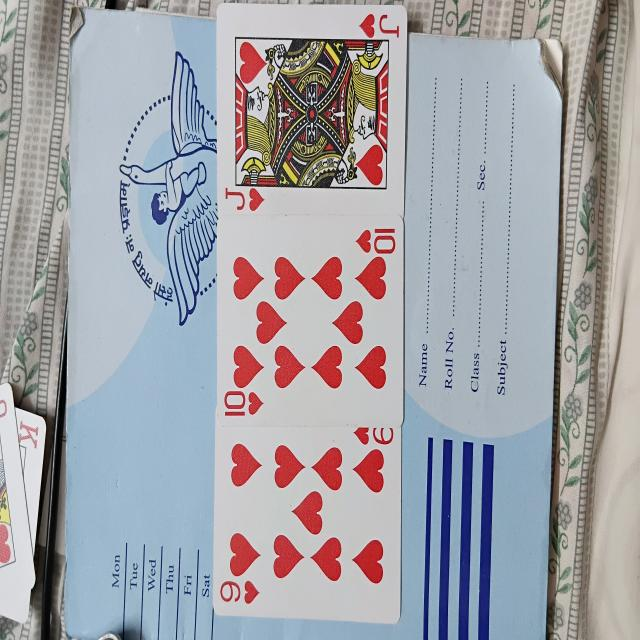10H: (214, 219, 405, 422)
9H: (212, 425, 400, 620)
JH: (214, 2, 406, 215)
